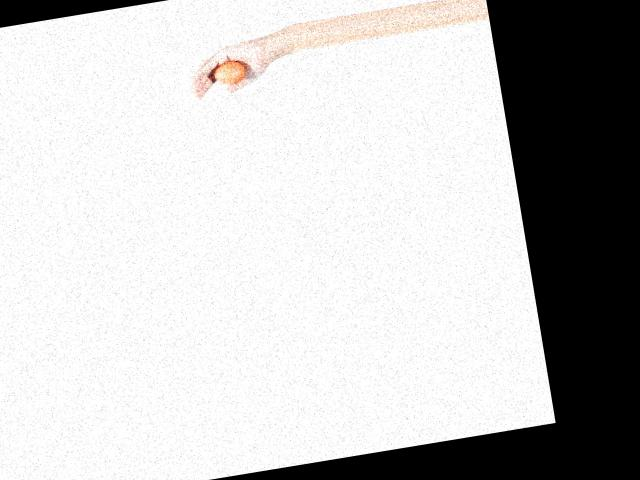egg: (213, 59, 246, 86)
